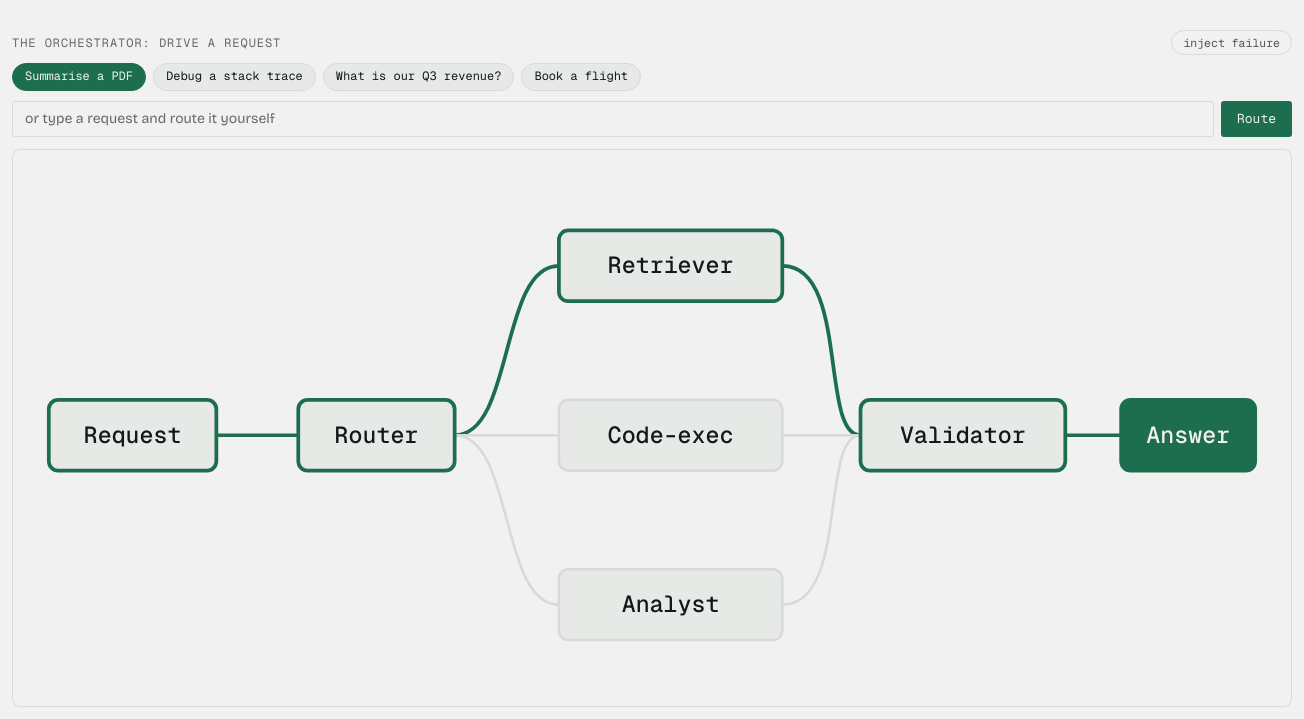
it: Orchestrator › matches free-text to the nearest intent
This screenshot has width=1304, height=719.
In the field labelled "or type a request and route it yourself": coordinates (613, 119) x1=12 y1=101 x2=1214 y2=137, type "please debug this python error"
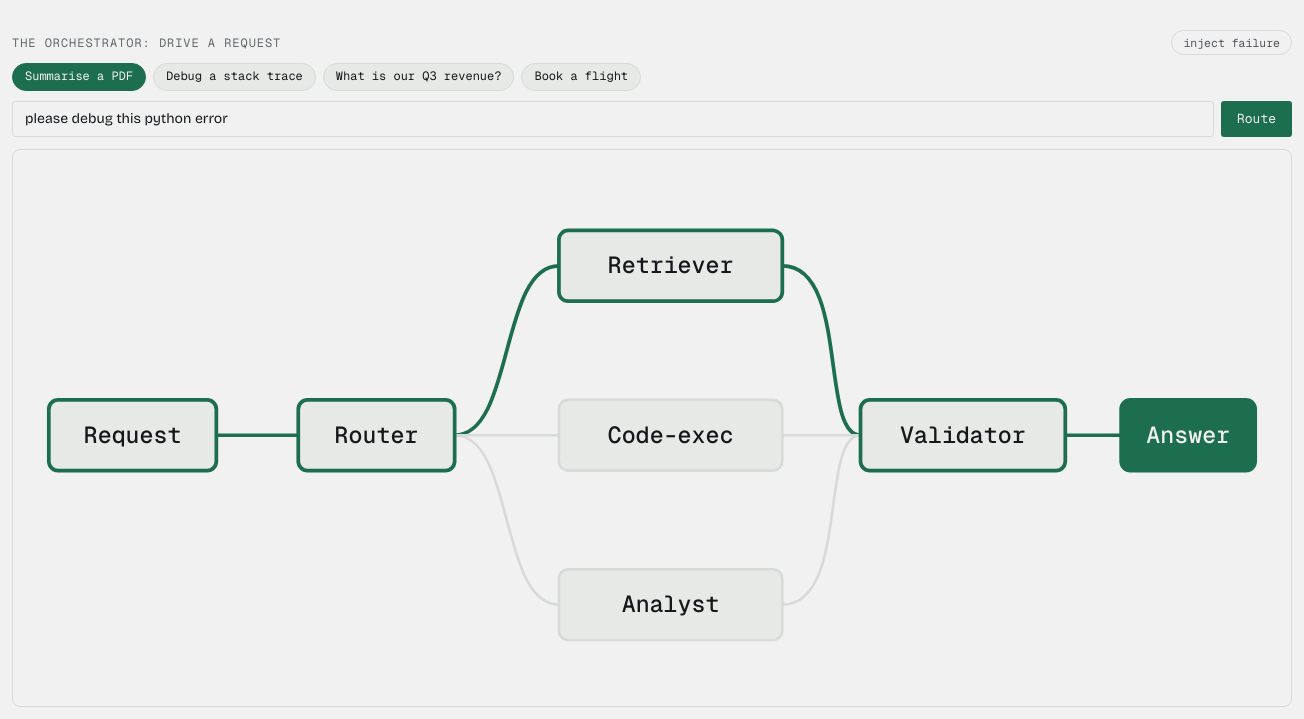
Submit the form "Route", box x1=12 y1=101 x2=1292 y2=137
(page scrolled)
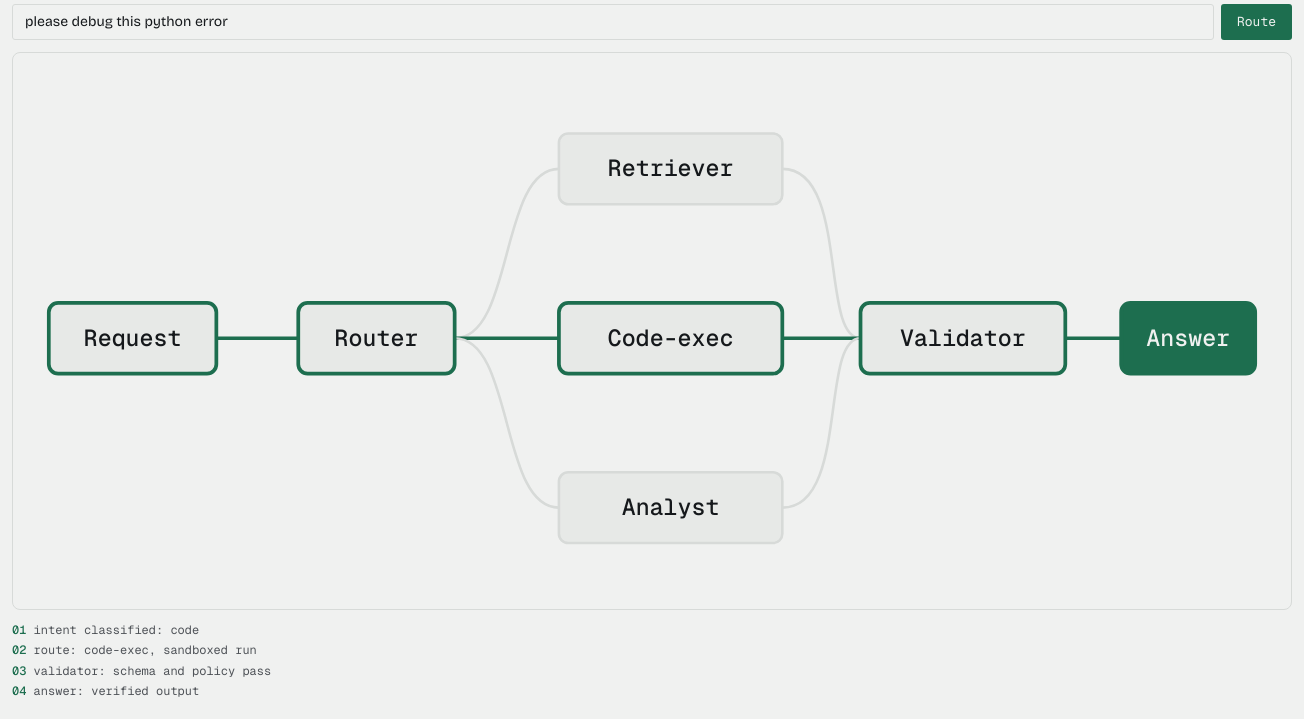
Now the text "01 intent classified: code" is shown, box x1=12 y1=622 x2=199 y2=638
